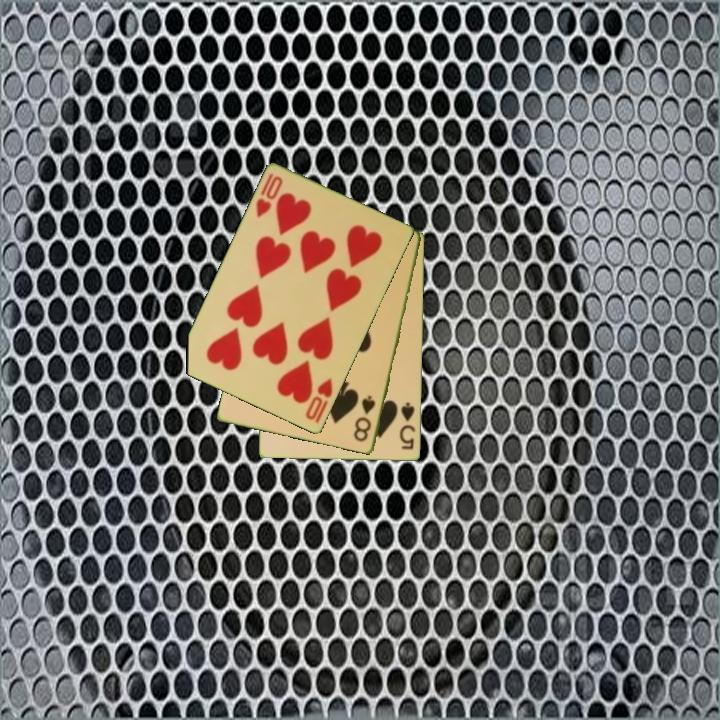10h: (302, 375, 336, 426), (252, 170, 286, 221)
5s: (396, 399, 418, 453)
8s: (351, 392, 378, 445)
